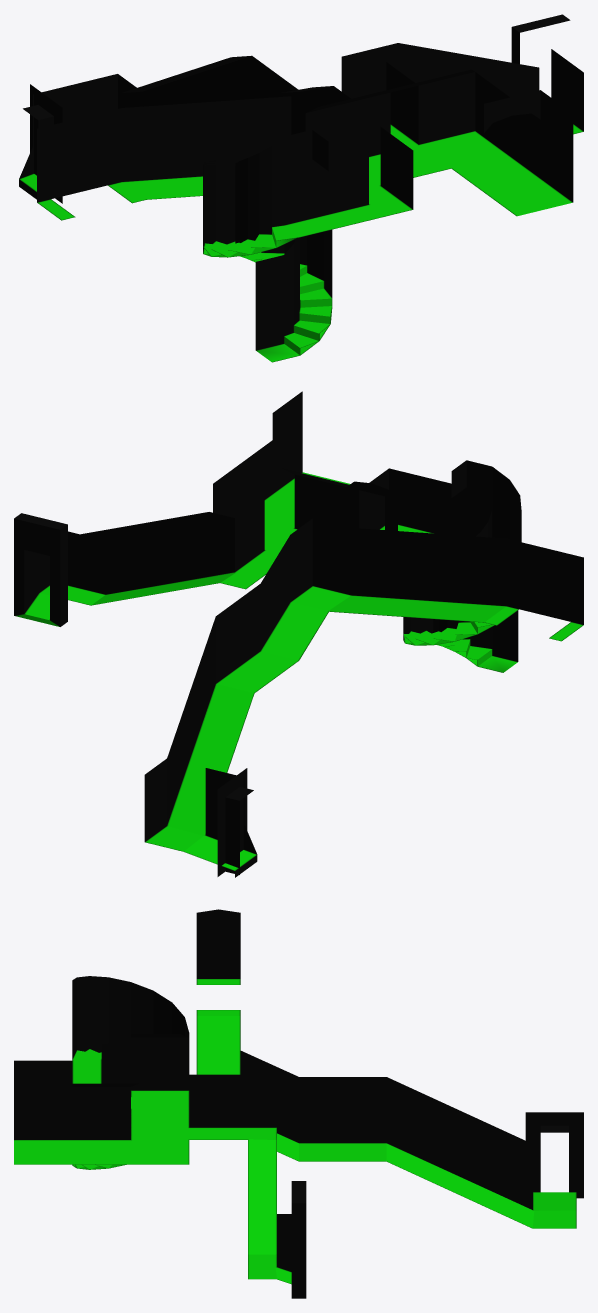
Rendered from dungeon_access.glb.
The picture shows the model from 3 angles, top to bottom: view 1: azimuth 30°, elevation 25°; view 2: azimuth 150°, elevation 25°; view 3: azimuth 270°, elevation 25°; orthographic projection. The views are drawn at different scales.
Parts seen in each view (by area): view 1: Dungeon_Access, Exit_Shortcut, Dungeon_Access_Stairwell_Mesh; view 2: Exit_Shortcut, Dungeon_Access, Dungeon_Access_Stairwell_Mesh; view 3: Dungeon_Access, Exit_Shortcut.
Boxes of the visible parts, x1,y1,x2,y2 form: Dungeon_Access: (203,14,583,362); Exit_Shortcut: (19,55,350,220); Dungeon_Access_Stairwell_Mesh: (203,225,332,354); Exit_Shortcut: (144,518,583,877); Dungeon_Access: (14,391,521,672); Dungeon_Access_Stairwell_Mesh: (403,621,492,666); Dungeon_Access: (14,976,306,1298); Exit_Shortcut: (196,909,583,1228).
Bounding box in the file's own units: 19.9 × 8.25 × 19.5.
